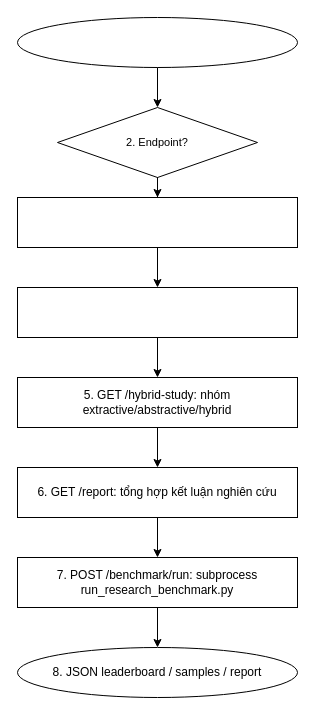
Some shapes in this 315 by 715 pixel diagram are drawn without their labels. The centre of each missing label's shape, as x and y in pixels:
1. Người dùng: /research/* (Benchmark page): (x=157, y=42)
3. GET /leaderboard: _load_leaderboard_only + composite scores: (x=157, y=222)
4. GET /benchmark/samples: paginate + filter category/search: (x=157, y=312)
